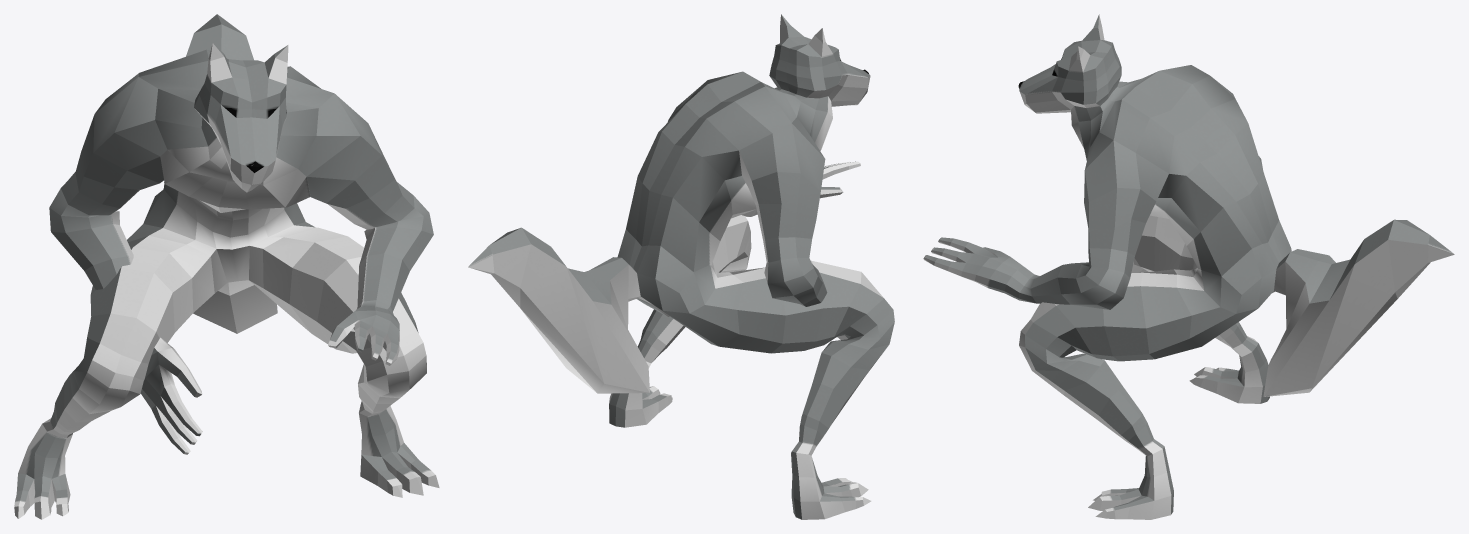
The model's file is WolfAttack(79).obj.
3 views of the same model, side by side, from view 1: azimuth 30°, elevation 25°; view 2: azimuth 150°, elevation 25°; view 3: azimuth 270°, elevation 25° (orthographic). The views are drawn at different scales.
Parts seen in each view (by area): view 1: Box001; view 2: Box001; view 3: Box001.
Part boxes in pixels (x1,y1,x2,y2): Box001: (14,14,439,519); Box001: (468,14,894,519); Box001: (923,14,1454,519).
Bounding box in the file's own units: 78.31 × 106 × 123.
